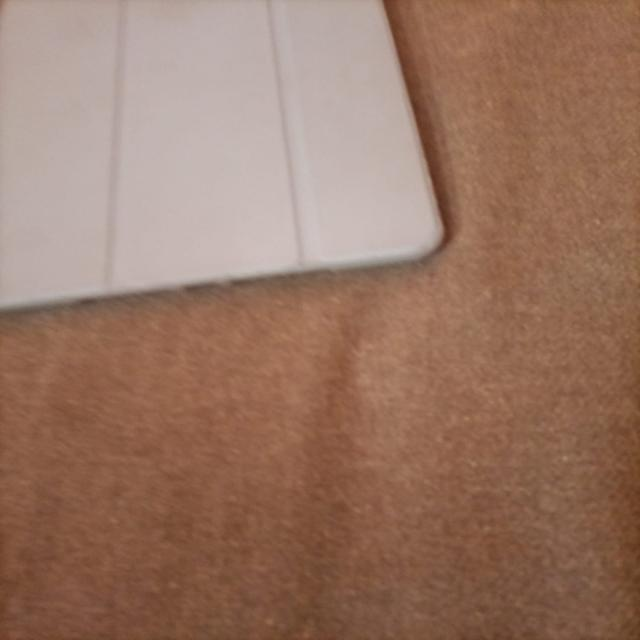tablet: (0, 2, 450, 350)
